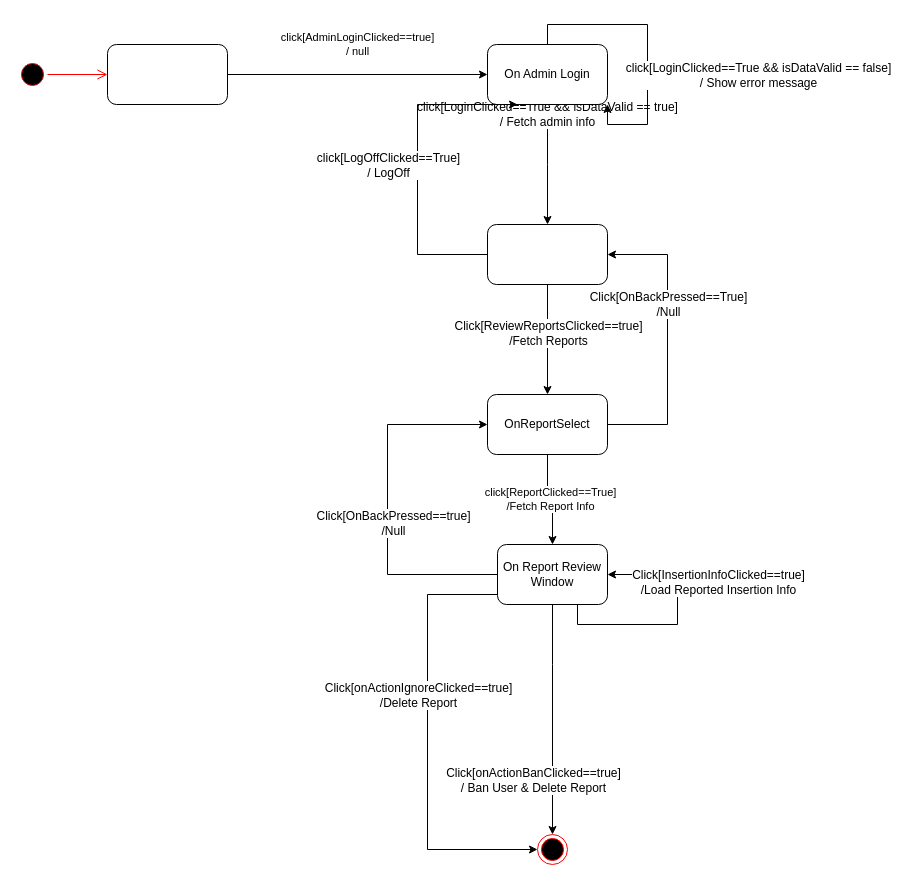
The diagram is 908 pixels wide and 882 high, and some of its shapes have lost their labels. The centre of each missing label's shape, as x and y in pixels:
"On Admin Panel" goes at (x=547, y=254).
"On Main Menu" goes at (x=167, y=74).
